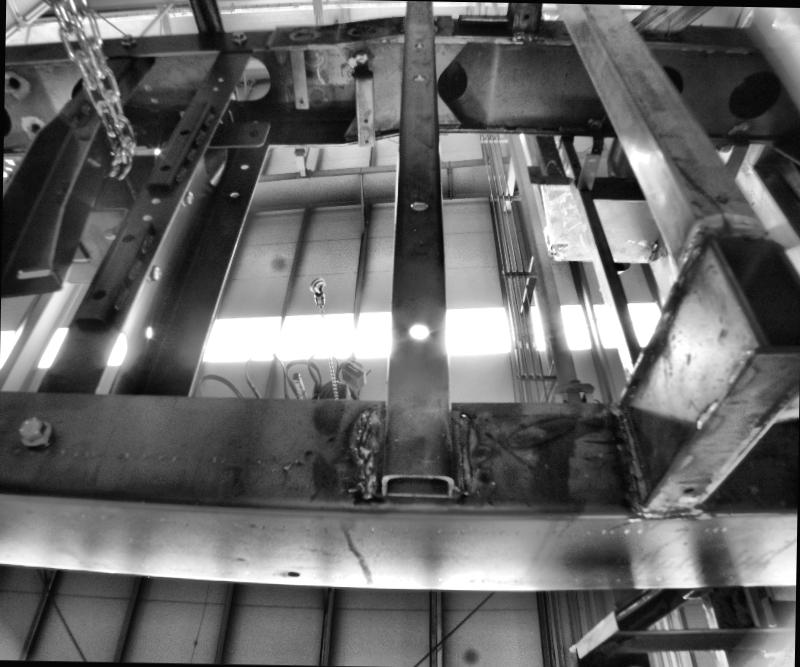bolt: (10, 410, 46, 441), (178, 187, 197, 207), (140, 259, 158, 278), (228, 27, 250, 42), (116, 32, 136, 48)
bracket: (346, 51, 376, 151), (216, 109, 269, 143), (288, 41, 314, 106), (571, 142, 607, 188)
hole: (402, 310, 430, 338), (408, 195, 431, 212), (716, 183, 734, 195), (138, 318, 150, 333), (684, 481, 695, 493), (411, 72, 426, 79), (140, 212, 152, 219), (150, 195, 160, 203), (228, 188, 237, 195), (586, 155, 596, 161), (286, 570, 298, 575), (412, 39, 422, 44), (361, 117, 368, 124), (522, 9, 529, 16), (240, 162, 248, 168), (297, 96, 303, 102), (362, 137, 369, 142)
welding: (444, 401, 486, 489), (353, 400, 375, 500)
